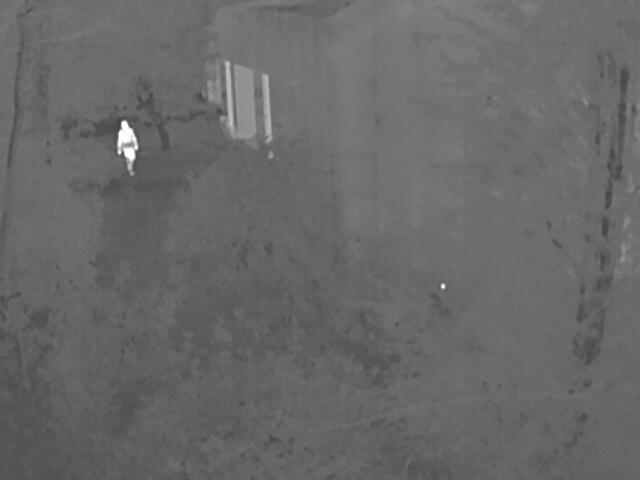person: (116, 119, 136, 173)
